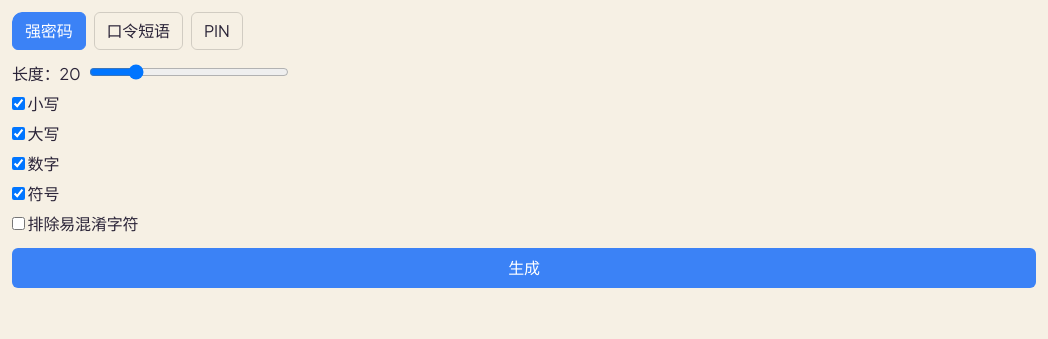
Test: PasswordGenerator › 生成失败（API 未挂载）时显示错误
Click the button "生成".
click(524, 268)  # box 12,248 -> 1036,288
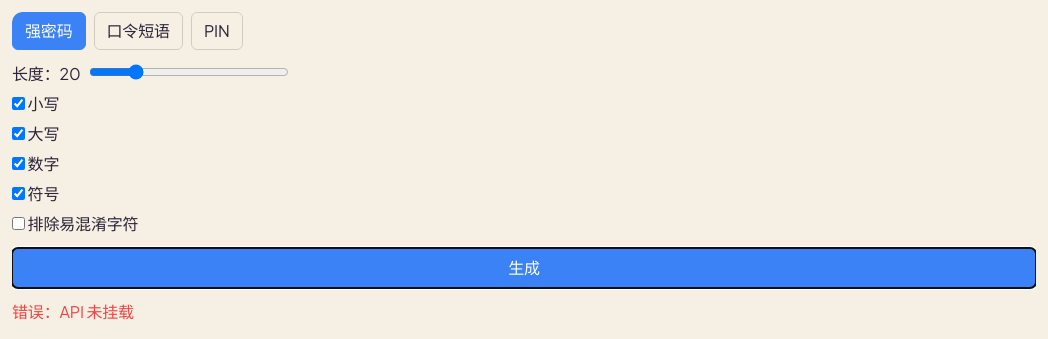
Expected: the text "错误：API 未挂载" is shown, 12,301 -> 134,322
